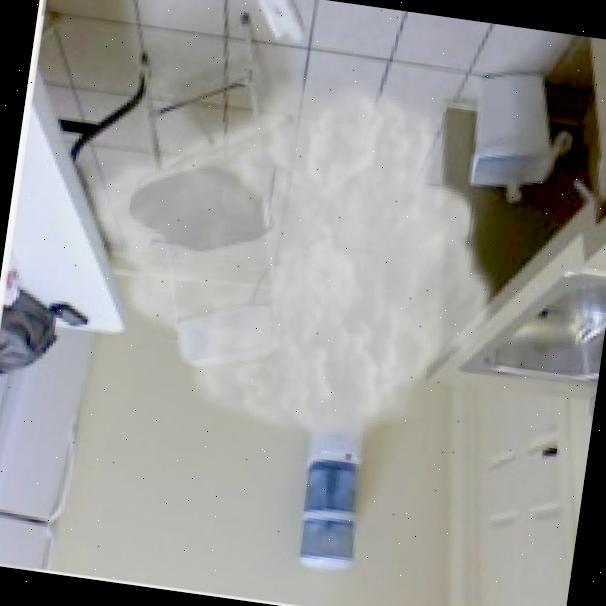smoke: (54, 39, 526, 471)
